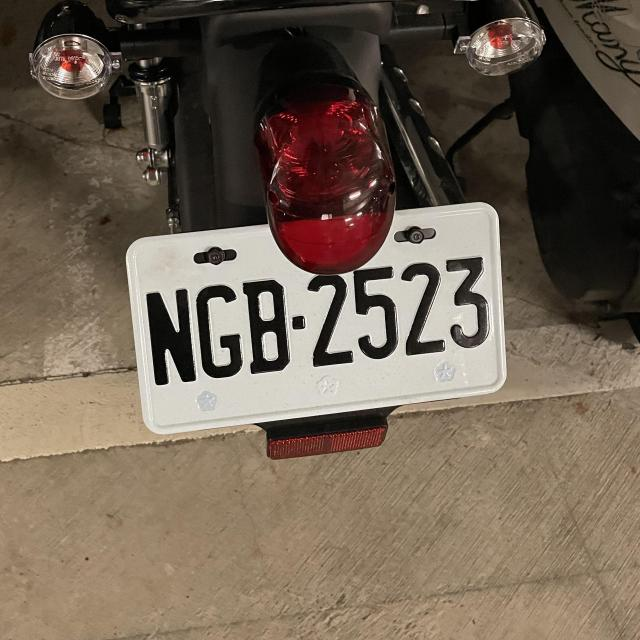W: (116, 210, 512, 428)
